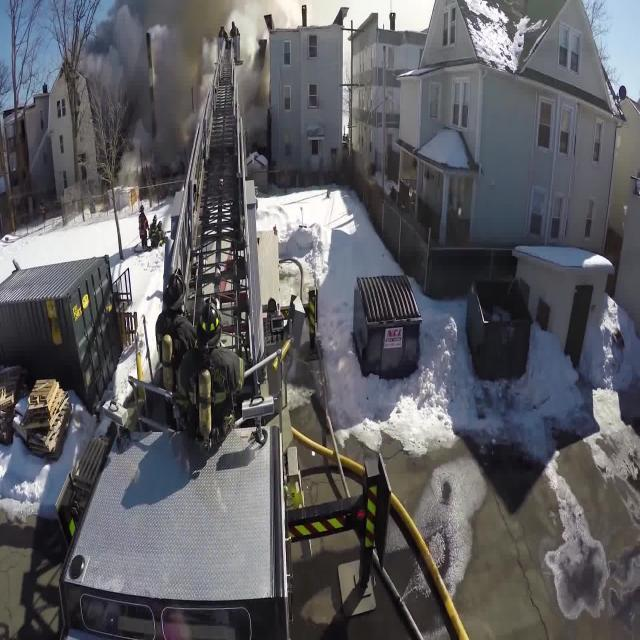Smoke: (92, 0, 298, 168)
